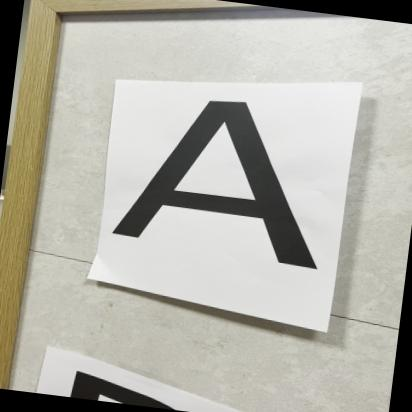seat: (90, 83, 374, 279)
